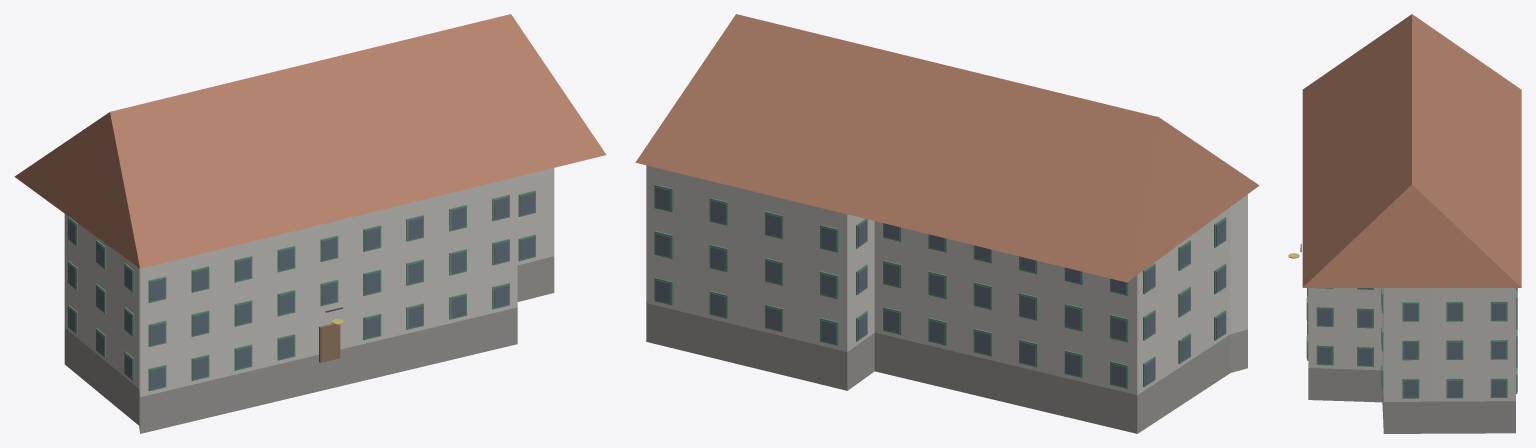
File: landmark-inn-zur-schnecke.glb
3 views of the same model, side by side, from view 1: azimuth 30°, elevation 25°; view 2: azimuth 150°, elevation 25°; view 3: azimuth 270°, elevation 25° (orthographic). The views are drawn at different scales.
Visible parts, largest first — view 1: building; view 2: building; view 3: building.
Boxes of the visible parts, x1,y1,x2,y2 form: building: [14, 14, 606, 433]; building: [635, 14, 1259, 433]; building: [1288, 14, 1521, 433].
Bounding box in the file's own units: 33.19 × 18.6 × 16.52.
